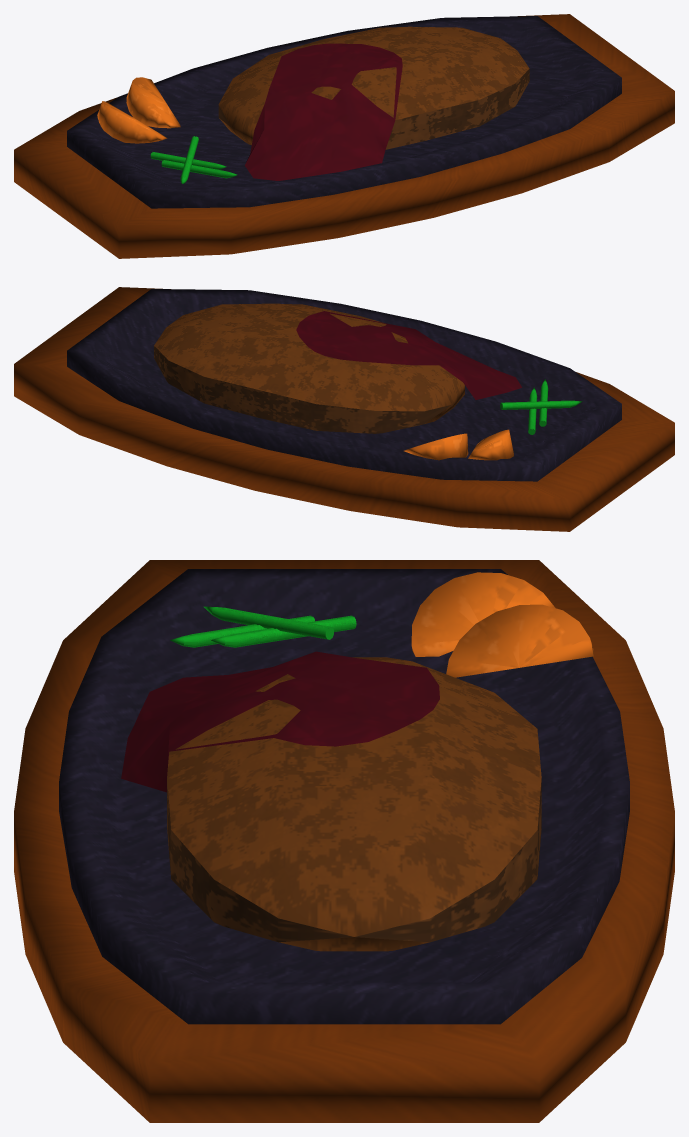
File: HunburgSet.fbx
The picture shows the model from 3 angles, top to bottom: view 1: azimuth 30°, elevation 25°; view 2: azimuth 150°, elevation 25°; view 3: azimuth 270°, elevation 25°; orthographic projection. The views are drawn at different scales.
Visible parts, largest first — view 1: Hunburgset; view 2: Hunburgset; view 3: Hunburgset.
Boxes of the visible parts, x1,y1,x2,y2 form: Hunburgset: [14, 14, 674, 258]; Hunburgset: [14, 287, 674, 531]; Hunburgset: [14, 560, 674, 1122].
Bounding box in the file's own units: 18 × 2.82 × 10.
Materials: 1 (1 with a texture image).
